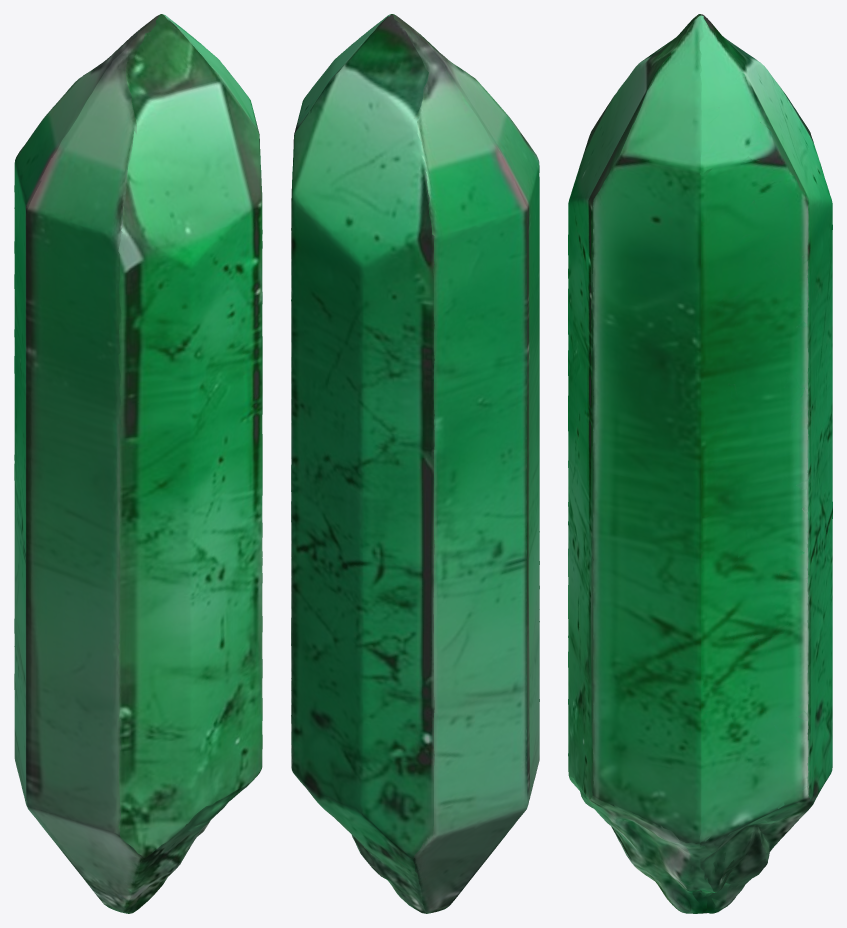
3 views of the same model, side by side, from view 1: azimuth 30°, elevation 25°; view 2: azimuth 150°, elevation 25°; view 3: azimuth 270°, elevation 25° (orthographic). The views are drawn at different scales.
Parts seen in each view (by area): view 1: geometry_0; view 2: geometry_0; view 3: geometry_0.
Boxes of the visible parts, <box> form: geometry_0: <box>14,14,262,913</box>; geometry_0: <box>291,14,539,913</box>; geometry_0: <box>568,14,832,913</box>.
Bounding box in the file's own units: 0.2662 × 1 × 0.2624.
1 material, 1 textured.
